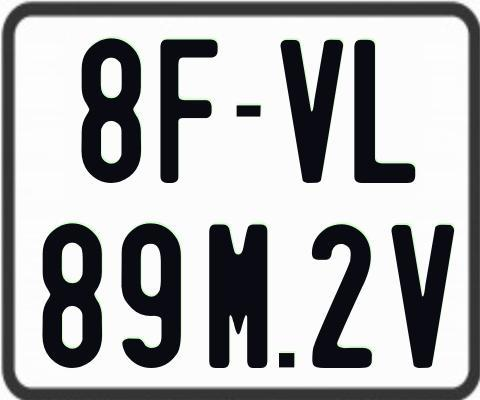2: (309, 222, 374, 369)
8: (81, 35, 147, 180), (39, 220, 103, 365)
9: (120, 222, 180, 373)
F: (159, 36, 221, 185)
L: (351, 38, 417, 182)
M: (208, 222, 272, 366)
V: (278, 39, 342, 187), (391, 224, 455, 370)
